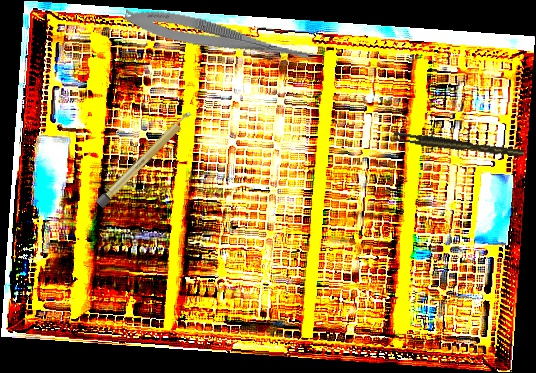Micro Scissor: (122, 3, 323, 69)
Scalpel Handle: (95, 109, 195, 209)
Tissue Forceps: (392, 127, 525, 164)
